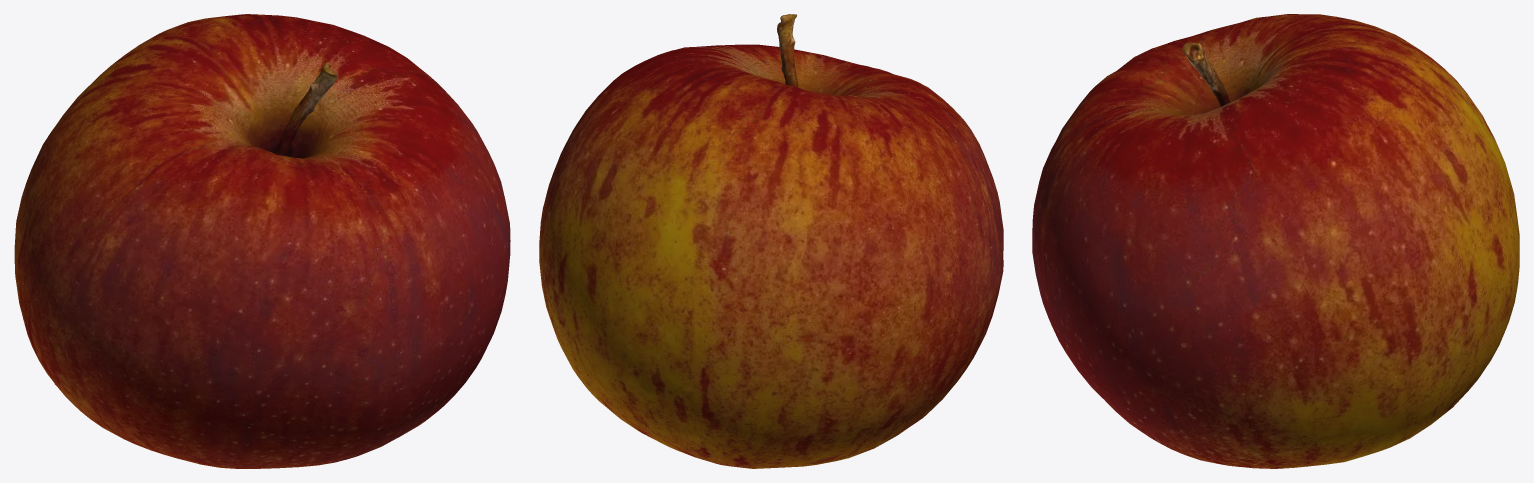
Rendered from food-apple-01.glb.
3 views of the same model, side by side, from view 1: azimuth 30°, elevation 25°; view 2: azimuth 150°, elevation 25°; view 3: azimuth 270°, elevation 25° (orthographic). The views are drawn at different scales.
Visible parts, largest first — view 1: food_apple_01; view 2: food_apple_01; view 3: food_apple_01.
Part boxes in pixels (x1,y1,x2,y2): food_apple_01: [14, 14, 510, 468]; food_apple_01: [539, 14, 1003, 468]; food_apple_01: [1032, 14, 1519, 468].
Bounding box in the file's own units: 0.0976 × 0.0854 × 0.0959.
Materials: 1 (1 with a texture image).
